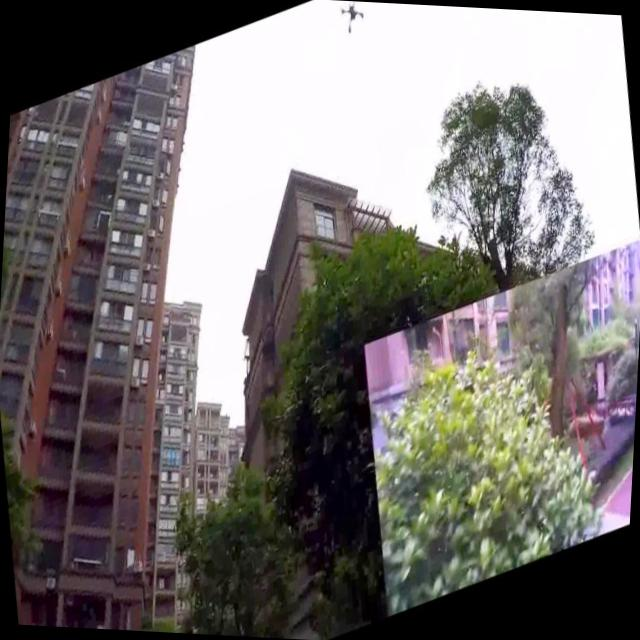drone: (334, 0, 369, 42)
